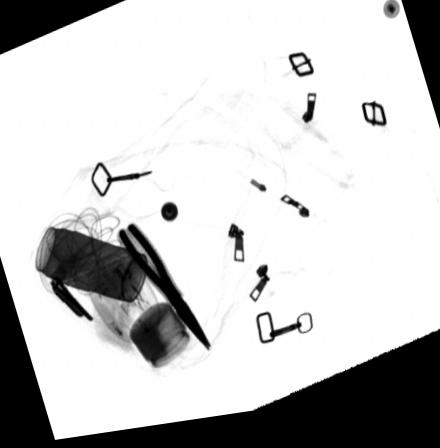Pliers: (116, 222, 214, 360)
